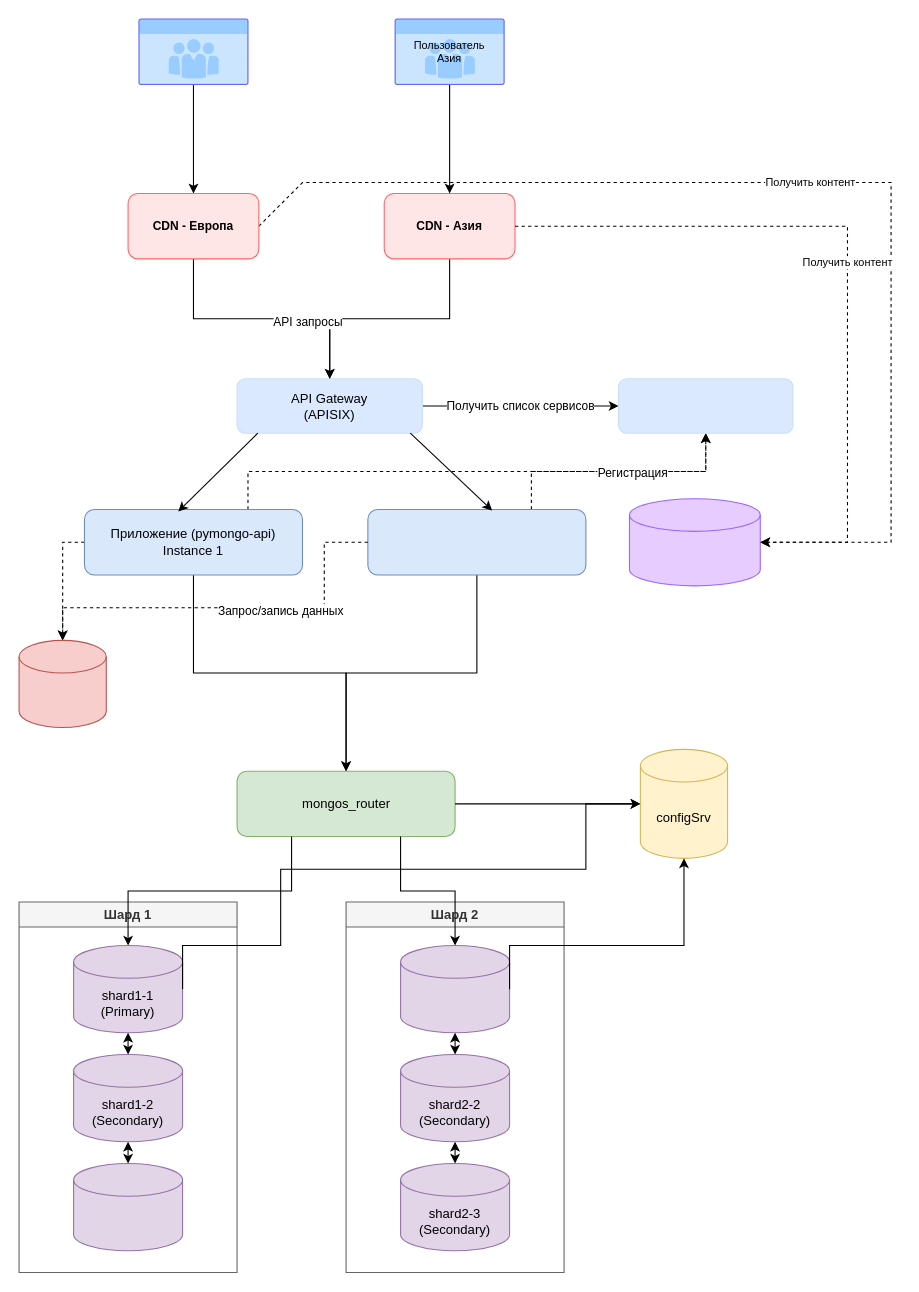
Some shapes in this 919 by 1292 pixel diagram are drawn without their labels. Each missing label, with the centre of its shape:
"Consul" goes at pixel 705 405.
"redis" goes at pixel 62 683.
"shard1-3 (Secondary)" goes at pixel 127 1206.
"shard2-1 (Primary)" goes at pixel 454 988.
"Static Storage" goes at pixel 694 542.
"Пользователь Европа" goes at pixel 193 51.
"Приложение (pymongo-api) Instance 2" goes at pixel 476 541.
